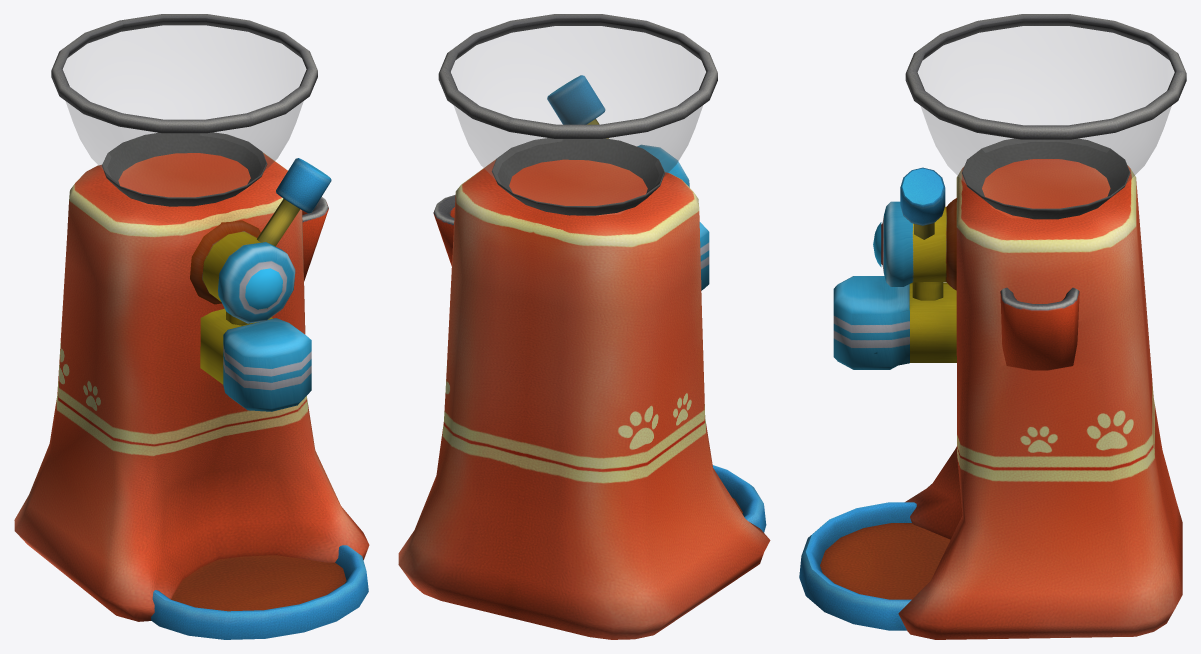
Rendered from Restaurant_Ice cream_making machine.FBX.
The picture shows the model from 3 angles, left to right: view 1: azimuth 30°, elevation 25°; view 2: azimuth 150°, elevation 25°; view 3: azimuth 270°, elevation 25°; orthographic projection. The views are drawn at different scales.
Parts seen in each view (by area): view 1: 对象015, Cylinder006, 对象013, 对象012; view 2: 对象015, Cylinder006, 对象013; view 3: 对象015, Cylinder006, 对象013.
Part boxes in pixels (<box>): 对象015: <box>14,14,369,639</box>; Cylinder006: <box>63,22,305,196</box>; 对象013: <box>102,132,267,206</box>; 对象012: <box>245,268,282,309</box>; 对象015: <box>398,14,770,639</box>; Cylinder006: <box>451,23,705,205</box>; 对象013: <box>492,138,664,215</box>; 对象015: <box>799,14,1186,639</box>; Cylinder006: <box>918,23,1173,207</box>; 对象013: <box>962,138,1130,219</box>.
Bounding box in the file's own units: 12.39 × 21.71 × 14.85.
